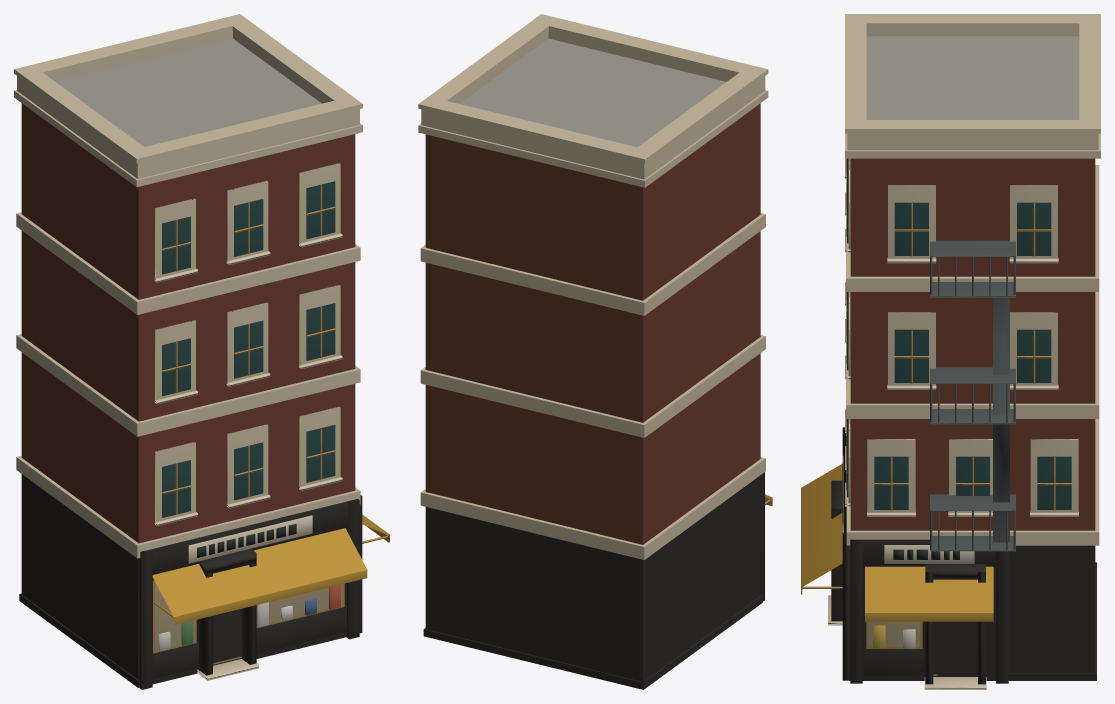
Rendered from city_brick_4.glb.
The picture shows the model from 3 angles, left to right: view 1: azimuth 30°, elevation 25°; view 2: azimuth 150°, elevation 25°; view 3: azimuth 270°, elevation 25°; orthographic projection. The views are drawn at different scales.
Parts seen in each view (by area): view 1: city_brick_4; view 2: city_brick_4; view 3: city_brick_4.
Boxes of the visible parts, <box> form: city_brick_4: <box>14,14,389,689</box>; city_brick_4: <box>418,14,772,689</box>; city_brick_4: <box>801,14,1100,689</box>.
Bounding box in the file's own units: 5.53 × 10.69 × 5.25.
